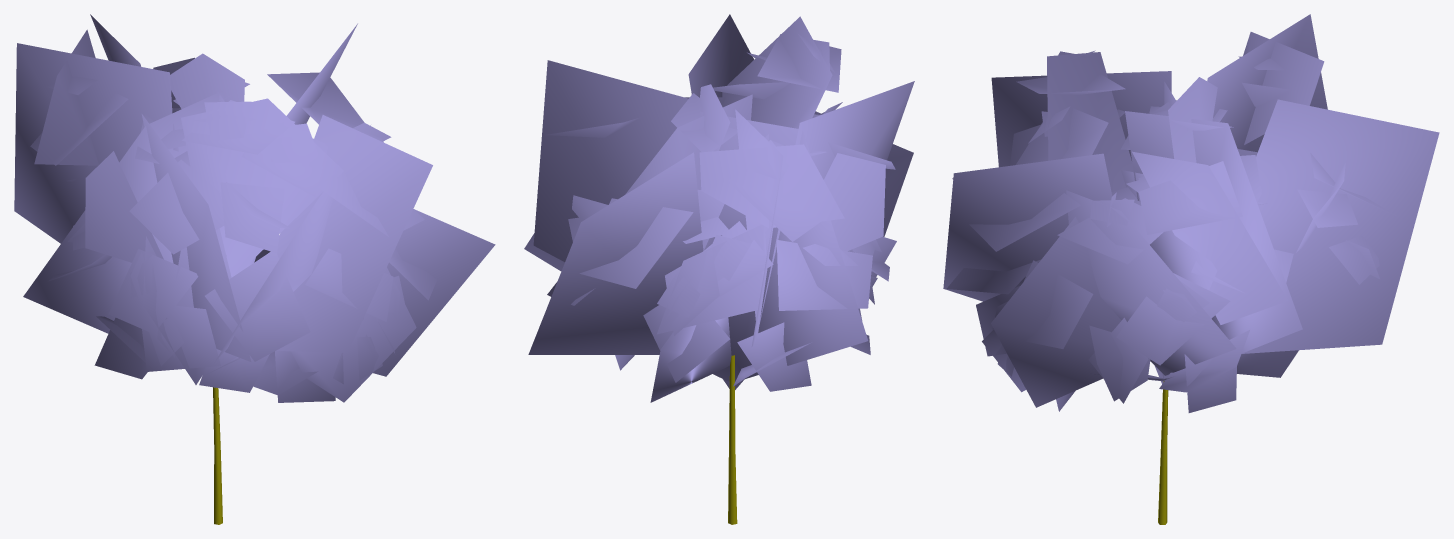
The picture shows the model from 3 angles, left to right: view 1: azimuth 30°, elevation 25°; view 2: azimuth 150°, elevation 25°; view 3: azimuth 270°, elevation 25°; orthographic projection.
Parts seen in each view (by area): view 1: SM_BS_Laurestine_50cm_HD; view 2: SM_BS_Laurestine_50cm_HD; view 3: SM_BS_Laurestine_50cm_HD.
Boxes of the visible parts, box(x1,y1,x2,y2) form: SM_BS_Laurestine_50cm_HD: box(14, 14, 495, 524); SM_BS_Laurestine_50cm_HD: box(524, 14, 914, 524); SM_BS_Laurestine_50cm_HD: box(943, 14, 1439, 524).
Bounding box in the file's own units: 43.93 × 35.83 × 45.19.
